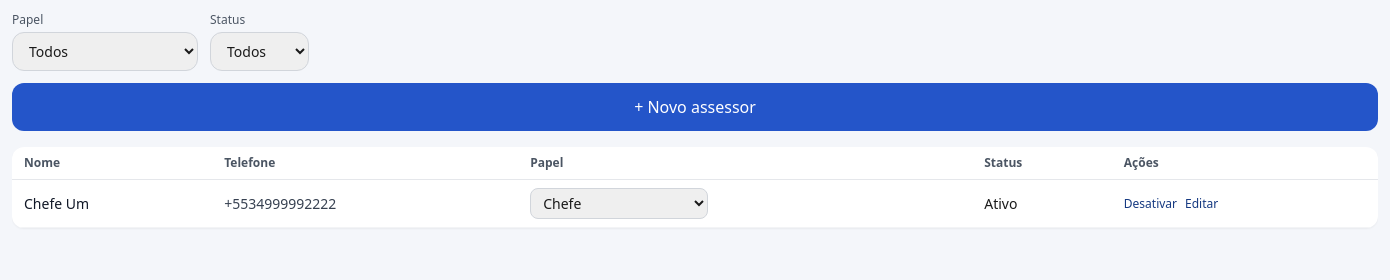
ListaAssessores — chefe › mostra a mensagem de erro da API ao tentar desativar o último chefe ativo
This screenshot has width=1390, height=280.
Expected: the text "Chefe Um" is shown, 12,180 -> 212,228
Click the button with aria-label "Desativar Chefe Um".
click(1150, 204)  # box 1124,196 -> 1177,212
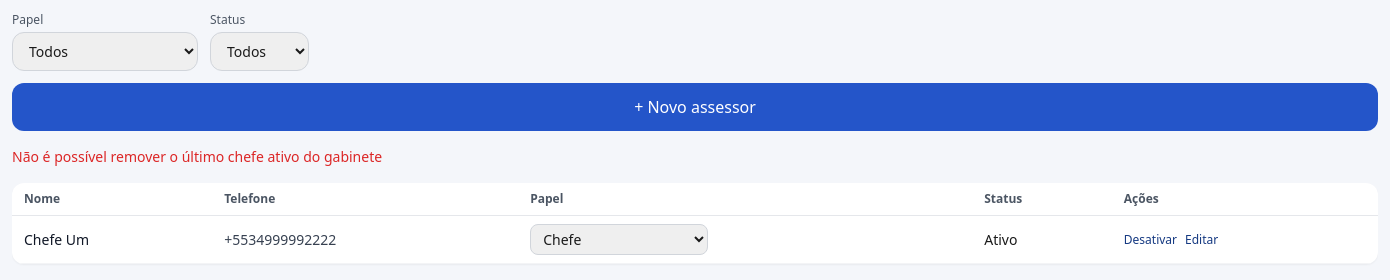
Now the text "Não é possível remover o último chefe ativo do gabinete" is shown, box 12,147 -> 382,166
